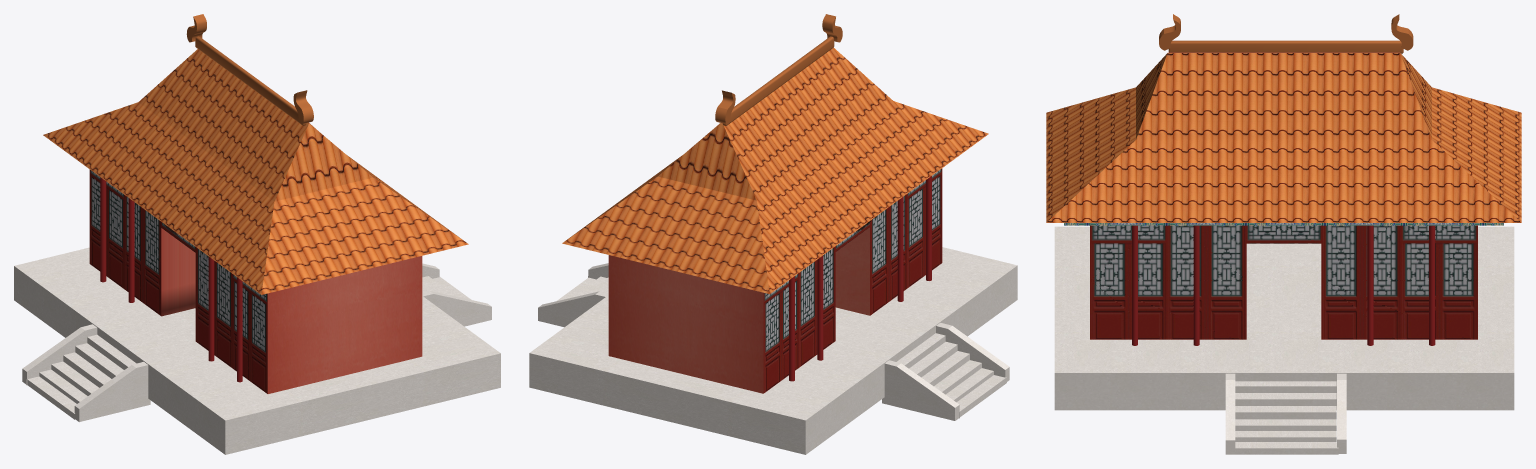
The model's file is shanchuantan.FBX.
The picture shows the model from 3 angles, left to right: view 1: azimuth 30°, elevation 25°; view 2: azimuth 150°, elevation 25°; view 3: azimuth 270°, elevation 25°; orthographic projection. The views are drawn at different scales.
Parts seen in each view (by area): view 1: 12666; view 2: 12666; view 3: 12666.
Boxes of the visible parts, x1=… form: 12666: x1=14, y1=14, x2=500, y2=454; 12666: x1=529, y1=14, x2=1017, y2=454; 12666: x1=1046, y1=14, x2=1521, y2=454.
Size of the model in its own units: 241 by 165 by 219.
Materials: 9 (7 with a texture image).
